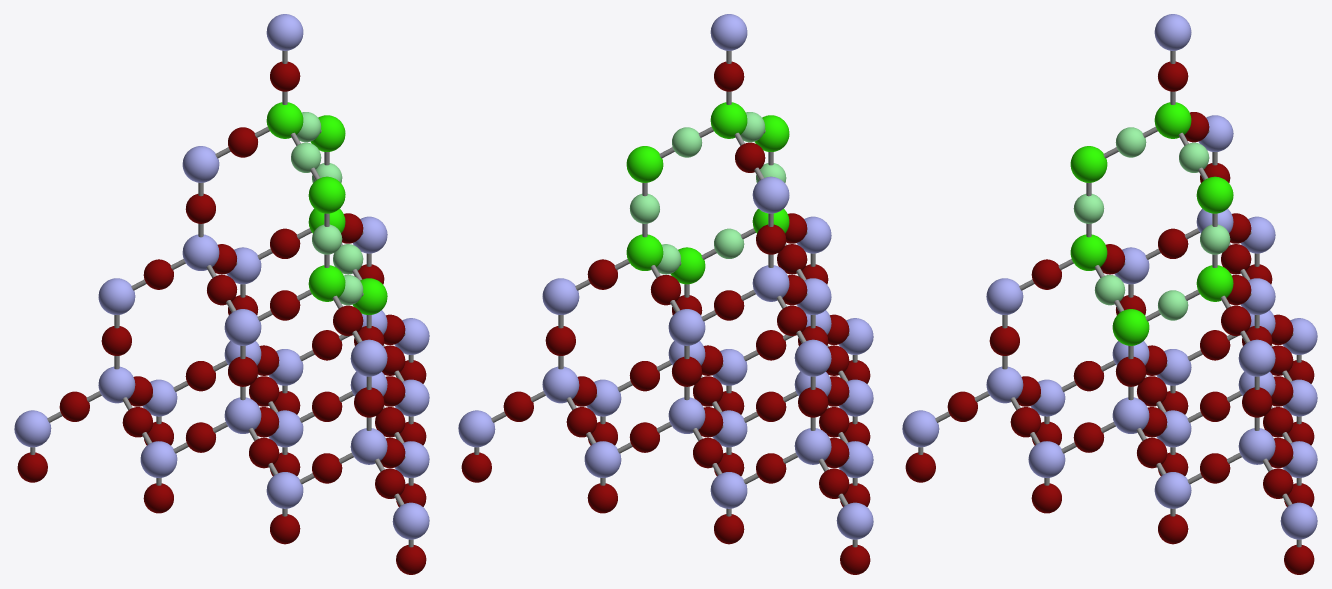
File: eryanghuagui1.FBX
The picture shows the model from 3 angles, left to right: view 1: azimuth 30°, elevation 25°; view 2: azimuth 150°, elevation 25°; view 3: azimuth 270°, elevation 25°; orthographic projection.
Visible parts, largest first — view 1: Sphere069, Sphere065, Sphere039, Sphere035, Sphere087, Sphere037, Sphere054, Sphere099, Sphere057, Sphere071, Sphere086, Sphere061 (+53 smaller); view 2: Sphere037, Sphere087, Sphere035, Sphere054, Sphere083, Sphere091, Sphere038, Sphere058, Sphere050, Sphere079, Sphere078, Sphere036 (+54 smaller); view 3: Sphere083, Sphere050, Sphere038, Sphere035, Sphere069, Sphere039, Sphere049, Sphere077, Sphere065, Sphere075, Sphere070, Sphere061 (+54 smaller).
Part boxes in pixels (x1=…): Sphere069: x1=392, y1=502, x2=429, y2=539; Sphere065: x1=350, y1=339, x2=387, y2=376; Sphere039: x1=308, y1=176, x2=345, y2=213; Sphere035: x1=266, y1=14, x2=303, y2=50; Sphere087: x1=14, y1=410, x2=51, y2=447; Sphere037: x1=182, y1=146, x2=219, y2=182; Sphere054: x1=98, y1=278, x2=135, y2=314; Sphere099: x1=140, y1=441, x2=177, y2=477; Sphere057: x1=224, y1=309, x2=261, y2=345; Sphere071: x1=266, y1=472, x2=303, y2=508; Sphere086: x1=98, y1=366, x2=135, y2=403; Sphere061: x1=308, y1=265, x2=345, y2=301; Sphere037: x1=752, y1=176, x2=789, y2=213; Sphere087: x1=836, y1=502, x2=873, y2=539; Sphere035: x1=710, y1=14, x2=747, y2=50; Sphere054: x1=794, y1=339, x2=831, y2=376; Sphere083: x1=458, y1=410, x2=495, y2=447; Sphere091: x1=710, y1=472, x2=747, y2=508; Sphere038: x1=626, y1=146, x2=663, y2=182; Sphere058: x1=668, y1=309, x2=705, y2=345; Sphere050: x1=542, y1=278, x2=579, y2=314; Sphere079: x1=584, y1=441, x2=621, y2=477; Sphere078: x1=542, y1=366, x2=579, y2=403; Sphere036: x1=710, y1=102, x2=747, y2=138; Sphere083: x1=1280, y1=502, x2=1317, y2=539; Sphere050: x1=1238, y1=339, x2=1275, y2=376; Sphere038: x1=1196, y1=176, x2=1233, y2=213; Sphere035: x1=1154, y1=14, x2=1191, y2=50; Sphere069: x1=902, y1=410, x2=939, y2=447; Sphere039: x1=1070, y1=146, x2=1107, y2=182; Sphere049: x1=1112, y1=309, x2=1149, y2=345; Sphere077: x1=1154, y1=472, x2=1191, y2=508; Sphere065: x1=986, y1=278, x2=1023, y2=314; Sphere075: x1=1028, y1=441, x2=1065, y2=477; Sphere070: x1=986, y1=366, x2=1023, y2=403; Sphere061: x1=1070, y1=234, x2=1107, y2=270.
Size of the model in its own units: 39.09 by 42.38 by 34.26.
